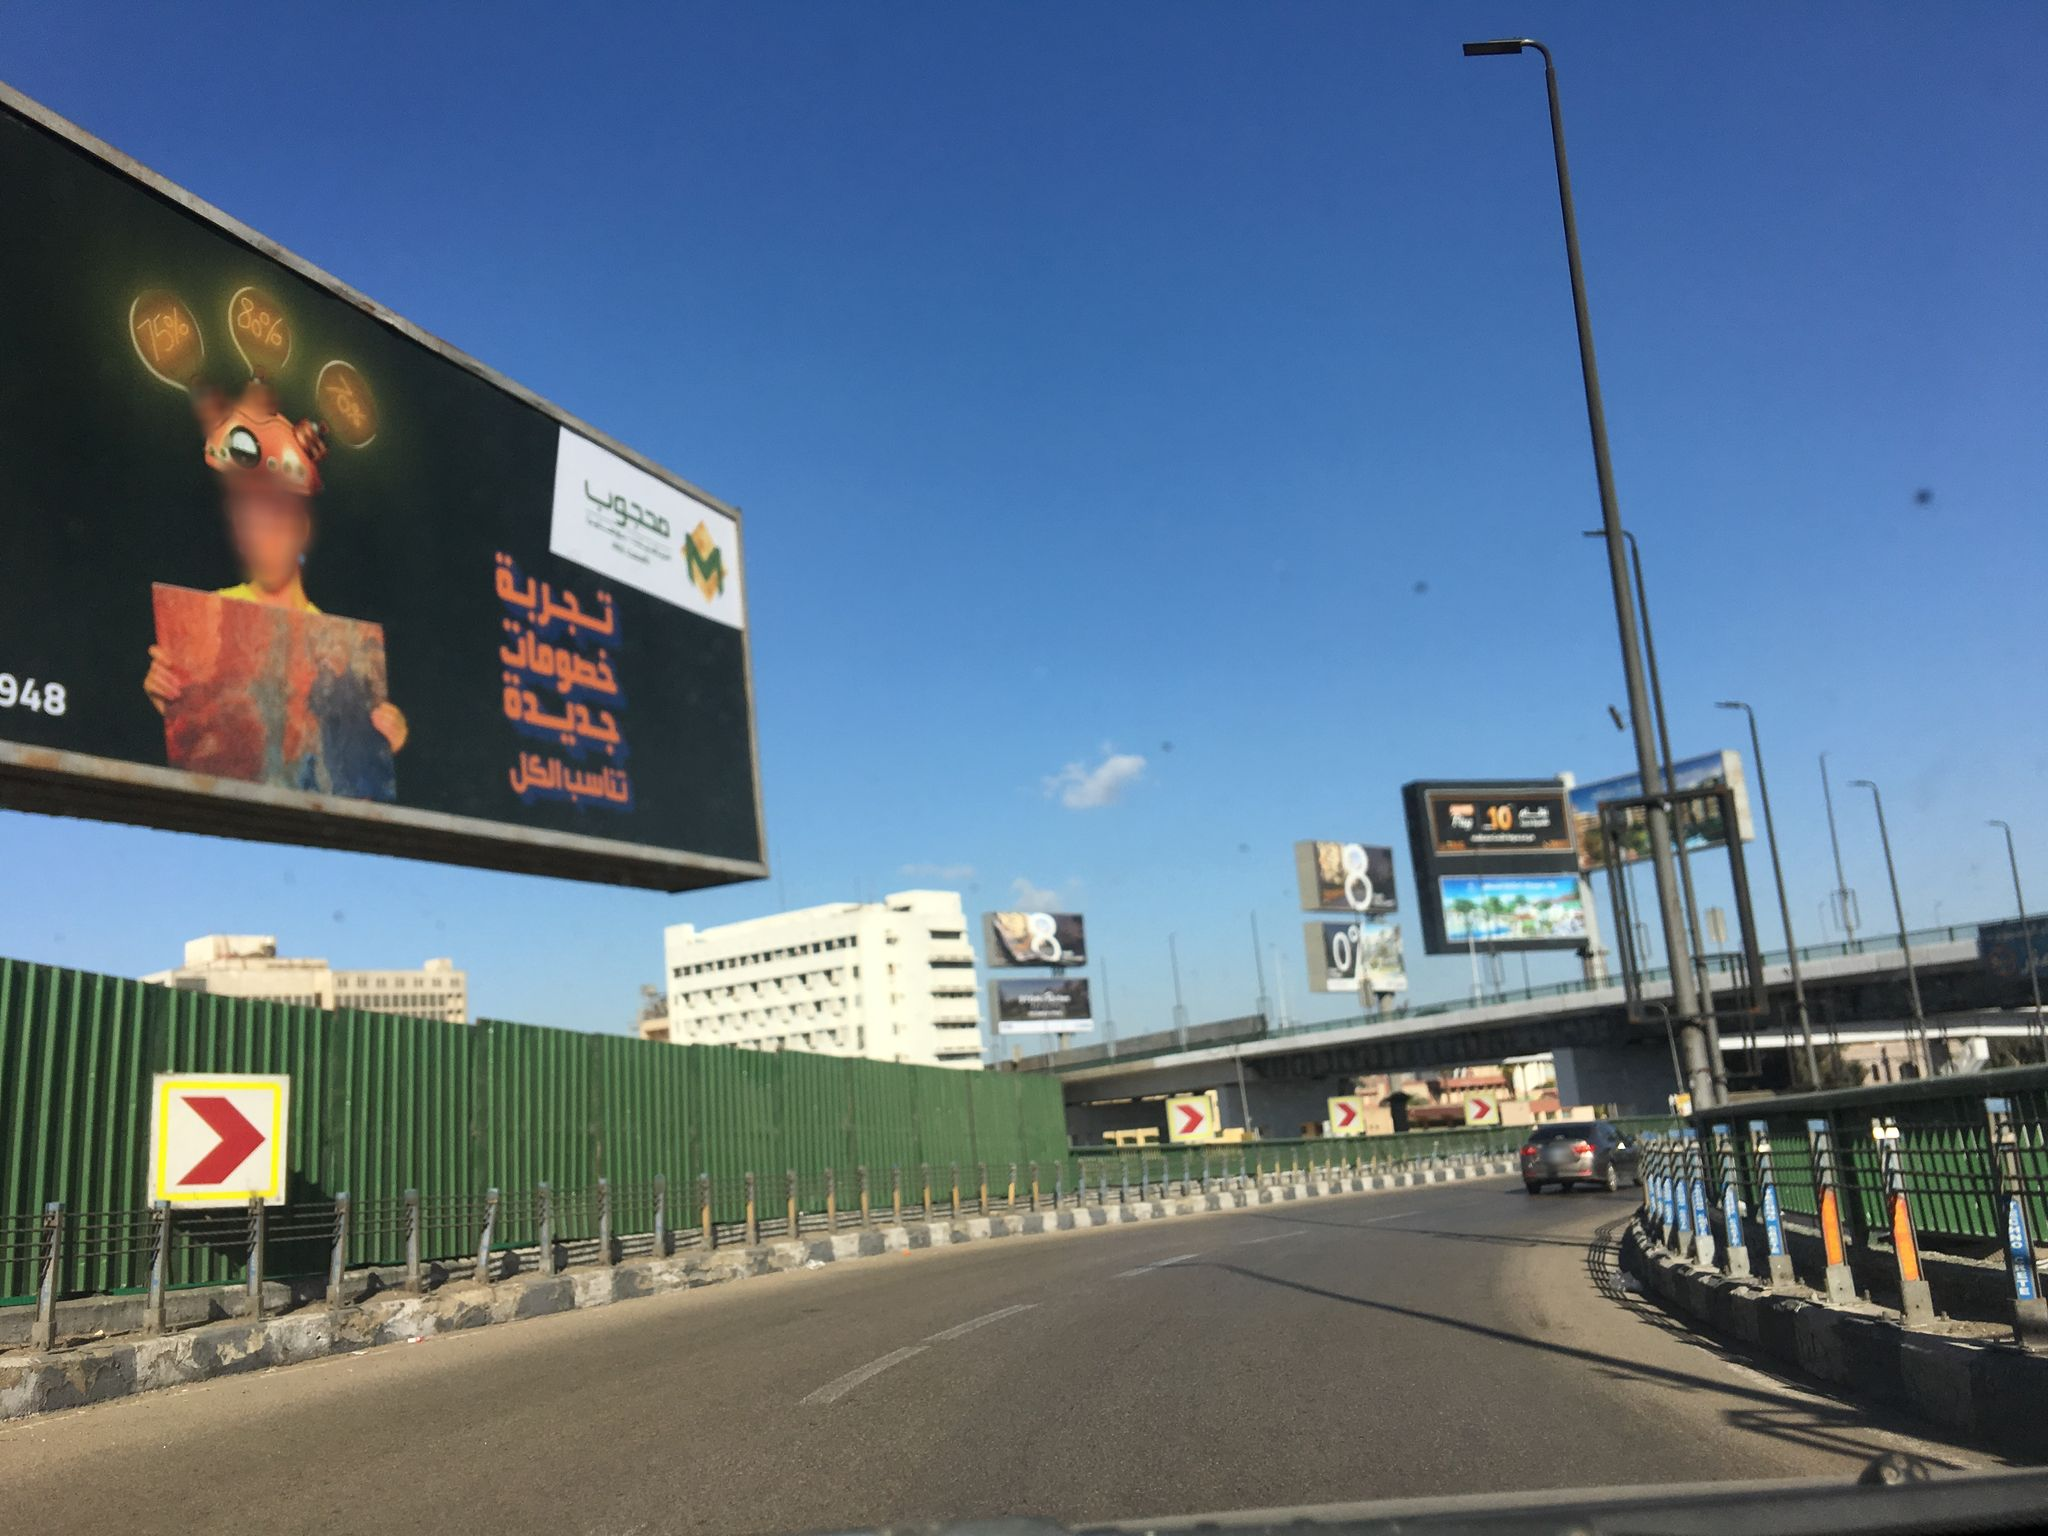car: (1521, 1120, 1642, 1191)
